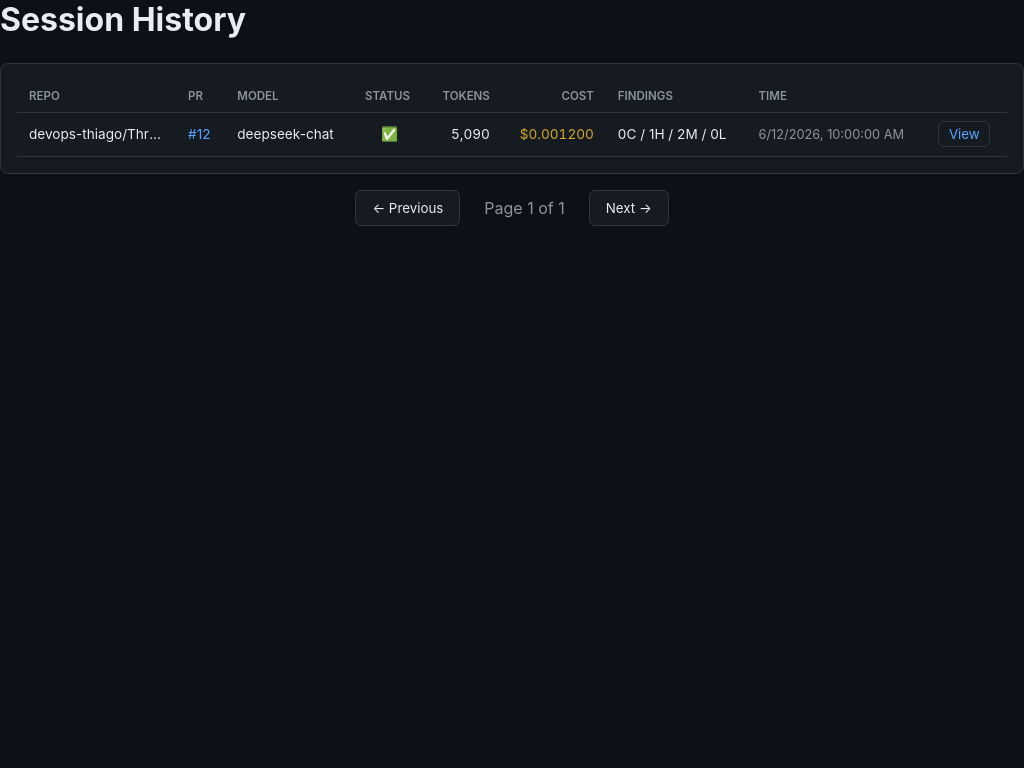
Scenario: SessionsPage › reports a detail fetch failure inside the panel
Check: the link "#12" is shown, box [188,126,210,142]
What coordinates should you click on to do the following:
click the button "View"
I would click on:
 (964, 134)
Its box is [938,121,990,147].
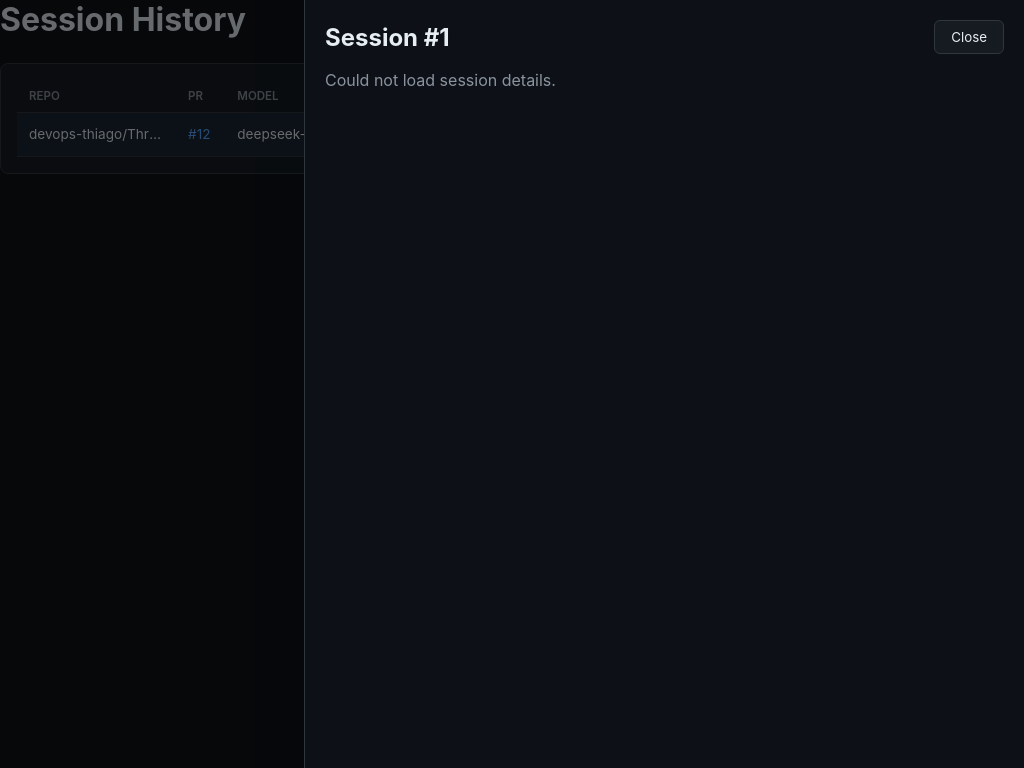
Check: the text "Could not load session details." is shown, box [325,70,556,90]
